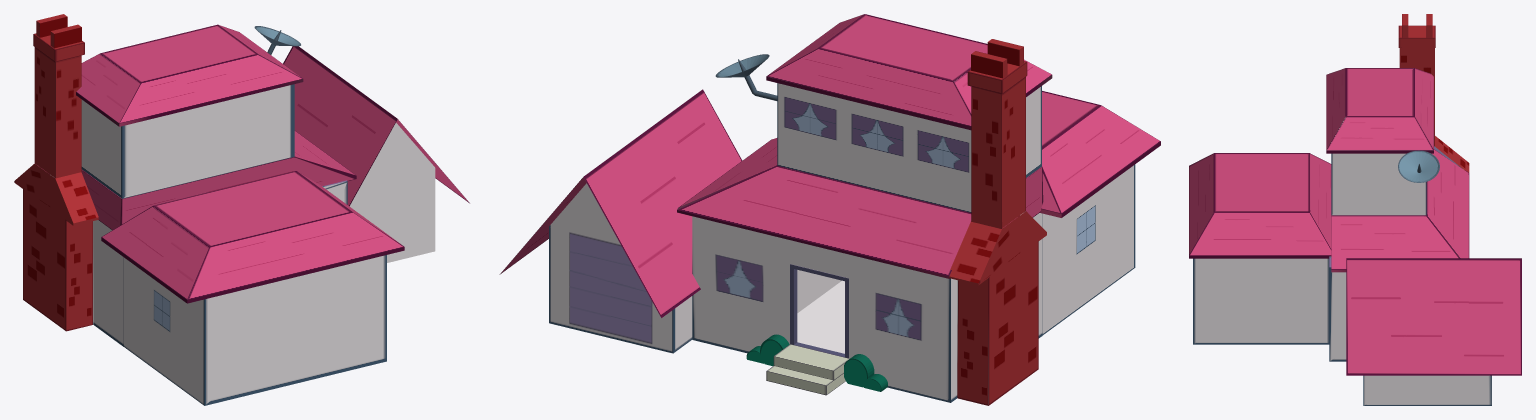
The model's file is casa.obj.
3 views of the same model, side by side, from view 1: azimuth 30°, elevation 25°; view 2: azimuth 150°, elevation 25°; view 3: azimuth 270°, elevation 25° (orthographic). The views are drawn at different scales.
Parts seen in each view (by area): view 1: Cubo.002_Cubo.003, Cubo.004_Cubo.006, Cubo.001, Cubo.006_Cubo.008, Plano.001, Cubo.007_Cubo.010, Cubo.003_Cubo.004, Cubo.005_Cubo.009, Cubo.009_Cubo.012, Cubo, Cubo.008_Cubo.011, Cubo.010_Cubo.013 (+4 smaller); view 2: Cubo, Cubo.005_Cubo.009, Cubo.001, Plano.001, Cubo.006_Cubo.008, Cubo.003_Cubo.004, Cubo.007_Cubo.010, Cubo.002_Cubo.003, Cubo.004_Cubo.006, Cubo.009_Cubo.012, Cubo.008_Cubo.011, Cubo.014_Cubo.017 (+9 smaller); view 3: Plano, Cubo.004_Cubo.006, Cubo.002_Cubo.003, Cubo.006_Cubo.008, Cubo.005_Cubo.009, Cubo.001, Cubo.003_Cubo.004, Cubo, Cono.001, Cubo.009_Cubo.012, Cubo.010_Cubo.013, Cubo.008_Cubo.011.
Part boxes in pixels (x1,y1,x2,y2): Cubo.002_Cubo.003: [124, 255, 386, 405]; Cubo.004_Cubo.006: [101, 171, 404, 303]; Cubo.001: [81, 84, 294, 198]; Cubo.006_Cubo.008: [76, 24, 303, 126]; Plano.001: [283, 46, 397, 206]; Cubo.007_Cubo.010: [23, 188, 93, 331]; Cubo.003_Cubo.004: [349, 123, 435, 262]; Cubo.005_Cubo.009: [81, 130, 356, 229]; Cubo.009_Cubo.012: [34, 47, 81, 178]; Cubo: [93, 180, 347, 346]; Cubo.008_Cubo.011: [14, 163, 98, 225]; Cubo.010_Cubo.013: [33, 33, 84, 61]; Cubo: [692, 213, 1042, 402]; Cubo.005_Cubo.009: [677, 138, 1043, 278]; Cubo.001: [777, 83, 1041, 212]; Plano.001: [583, 89, 742, 317]; Cubo.006_Cubo.008: [766, 14, 1052, 130]; Cubo.003_Cubo.004: [549, 183, 692, 353]; Cubo.007_Cubo.010: [957, 241, 1038, 405]; Cubo.002_Cubo.003: [841, 164, 1135, 334]; Cubo.004_Cubo.006: [1040, 91, 1160, 217]; Cubo.009_Cubo.012: [971, 77, 1025, 228]; Cubo.008_Cubo.011: [949, 211, 1046, 285]; Cubo.014_Cubo.017: [773, 344, 849, 380]; Plano: [1346, 258, 1521, 375]; Cubo.004_Cubo.006: [1189, 153, 1331, 258]; Cubo.002_Cubo.003: [1193, 258, 1329, 344]; Cubo.006_Cubo.008: [1326, 68, 1433, 153]; Cubo.005_Cubo.009: [1331, 149, 1469, 272]; Cubo.001: [1331, 153, 1426, 215]; Cubo.003_Cubo.004: [1363, 375, 1491, 405]; Cubo: [1329, 256, 1346, 361]; Cono.001: [1398, 150, 1439, 182]; Cubo.009_Cubo.012: [1399, 48, 1434, 146]; Cubo.010_Cubo.013: [1398, 25, 1435, 47]; Cubo.008_Cubo.011: [1434, 136, 1469, 172].
Size of the model in its own units: 19.82 by 14.21 by 17.53.
